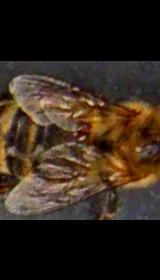varroa_mite: (68, 116, 93, 153)
